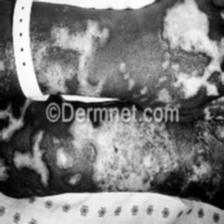Unclassified: (164, 0, 216, 88)
